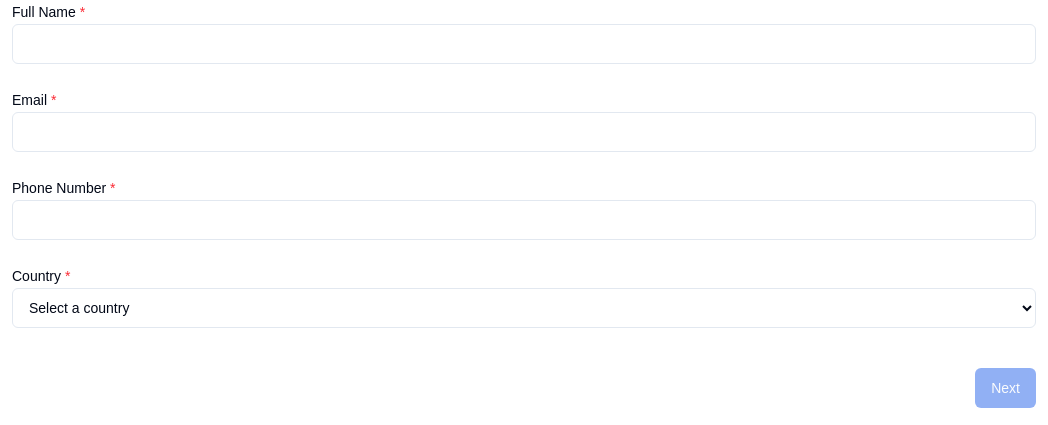
Test: Step Navigation Behavior › Cannot proceed without valid input › should enable next button when form is valid
The image size is (1048, 425).
In the field labelled "Full Name *": (524, 44) x1=12 y1=24 x2=1036 y2=64, type "John Doe"
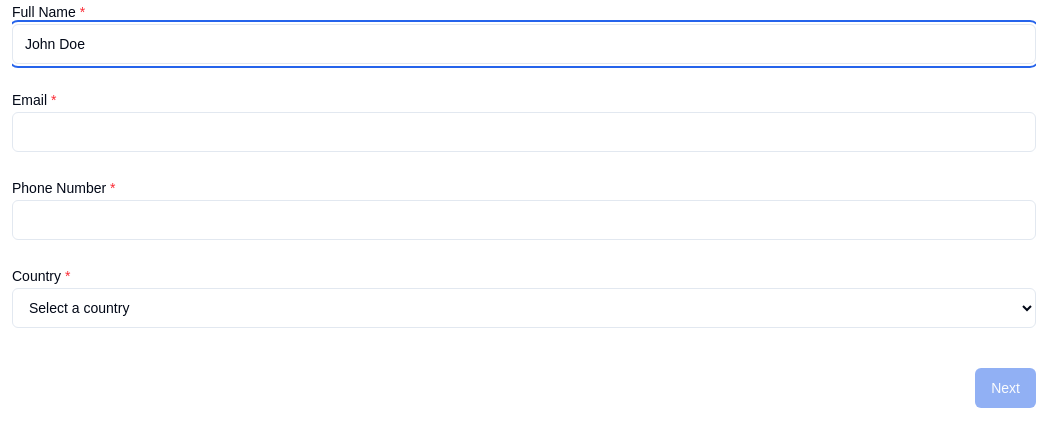
In the field labelled "Email *": (524, 132) x1=12 y1=112 x2=1036 y2=152, type "john@example.com"
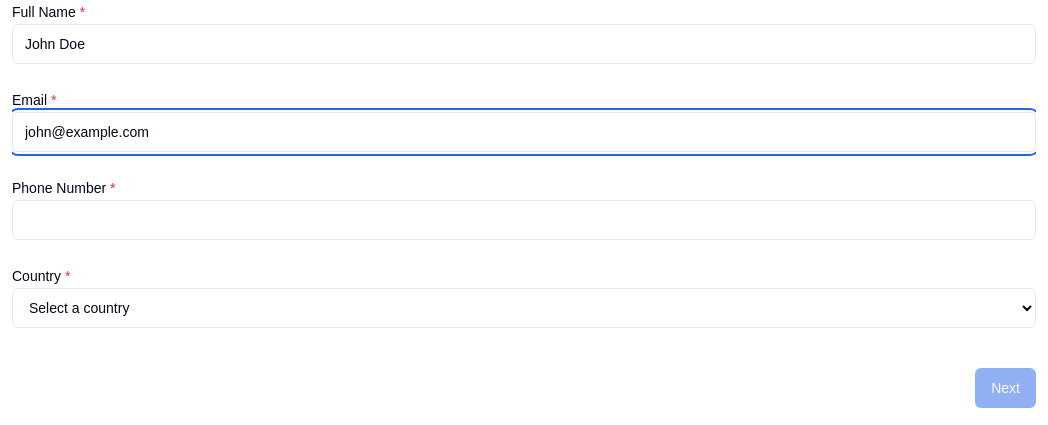
In the field labelled "Phone Number *": (524, 220) x1=12 y1=200 x2=1036 y2=240, type "1234567890"
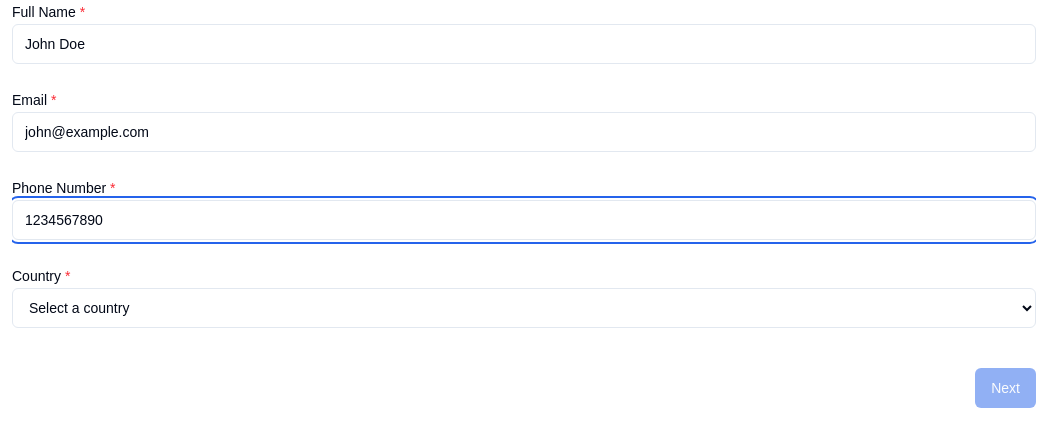
Select "United States" in the dropdown labelled "Country *": (524, 308) x1=12 y1=288 x2=1036 y2=328
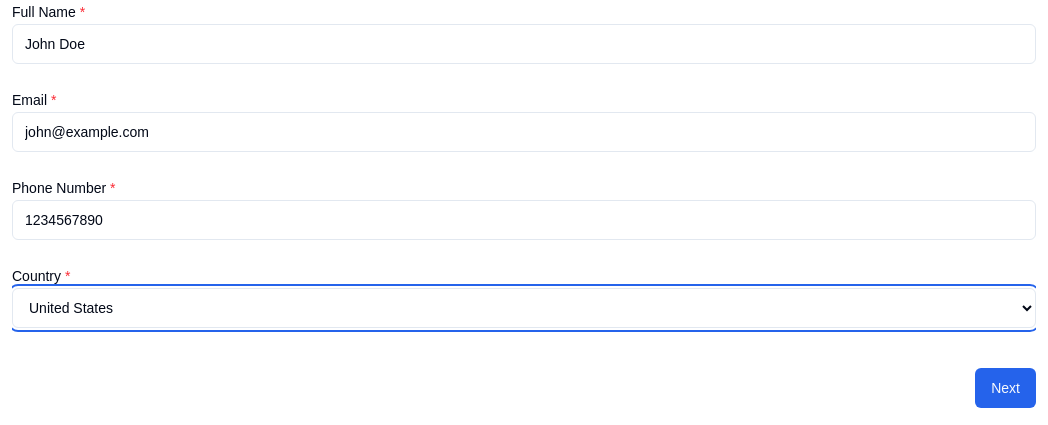
Now the button "Next" is enabled, box x1=975 y1=368 x2=1036 y2=408
